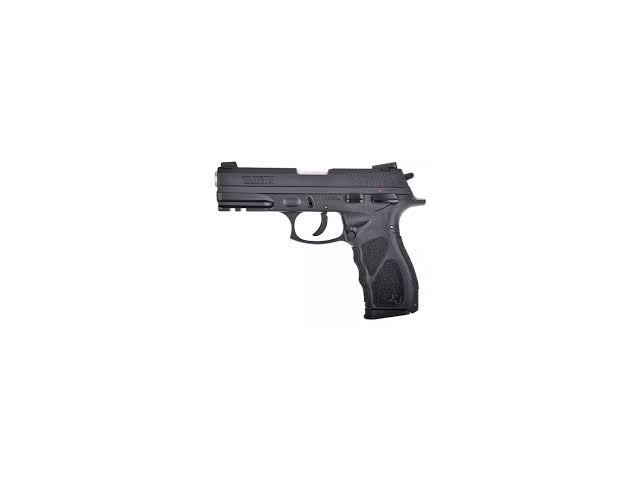pistol: (213, 160, 426, 324)
